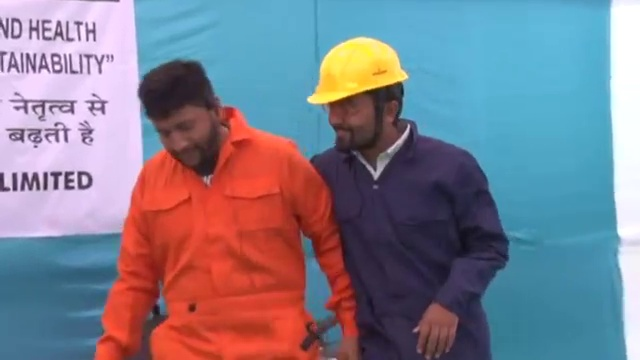helmet: (307, 37, 409, 106)
helmet_off: (134, 59, 226, 169)
helmet_on: (307, 37, 415, 150)
person: (94, 59, 363, 359), (305, 33, 510, 360)
